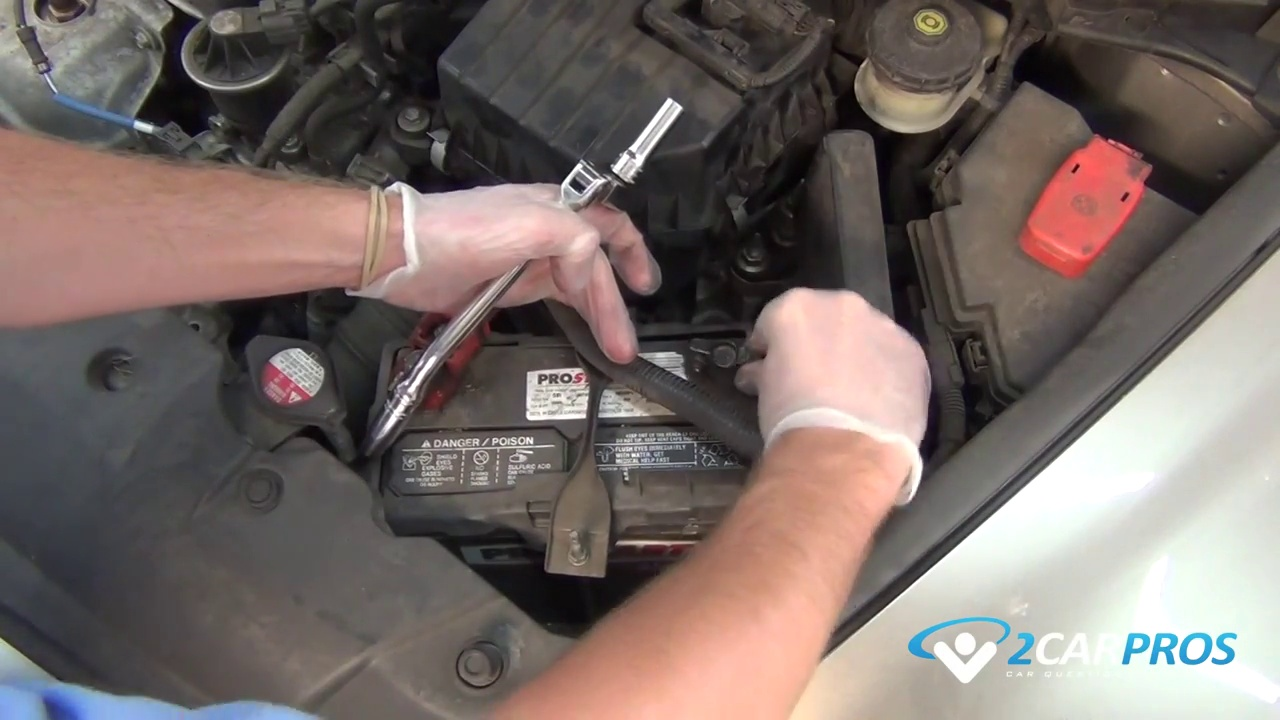battery: (376, 294, 797, 536)
neg_touched: (662, 304, 814, 398)
pos_touched: (368, 226, 505, 419)
